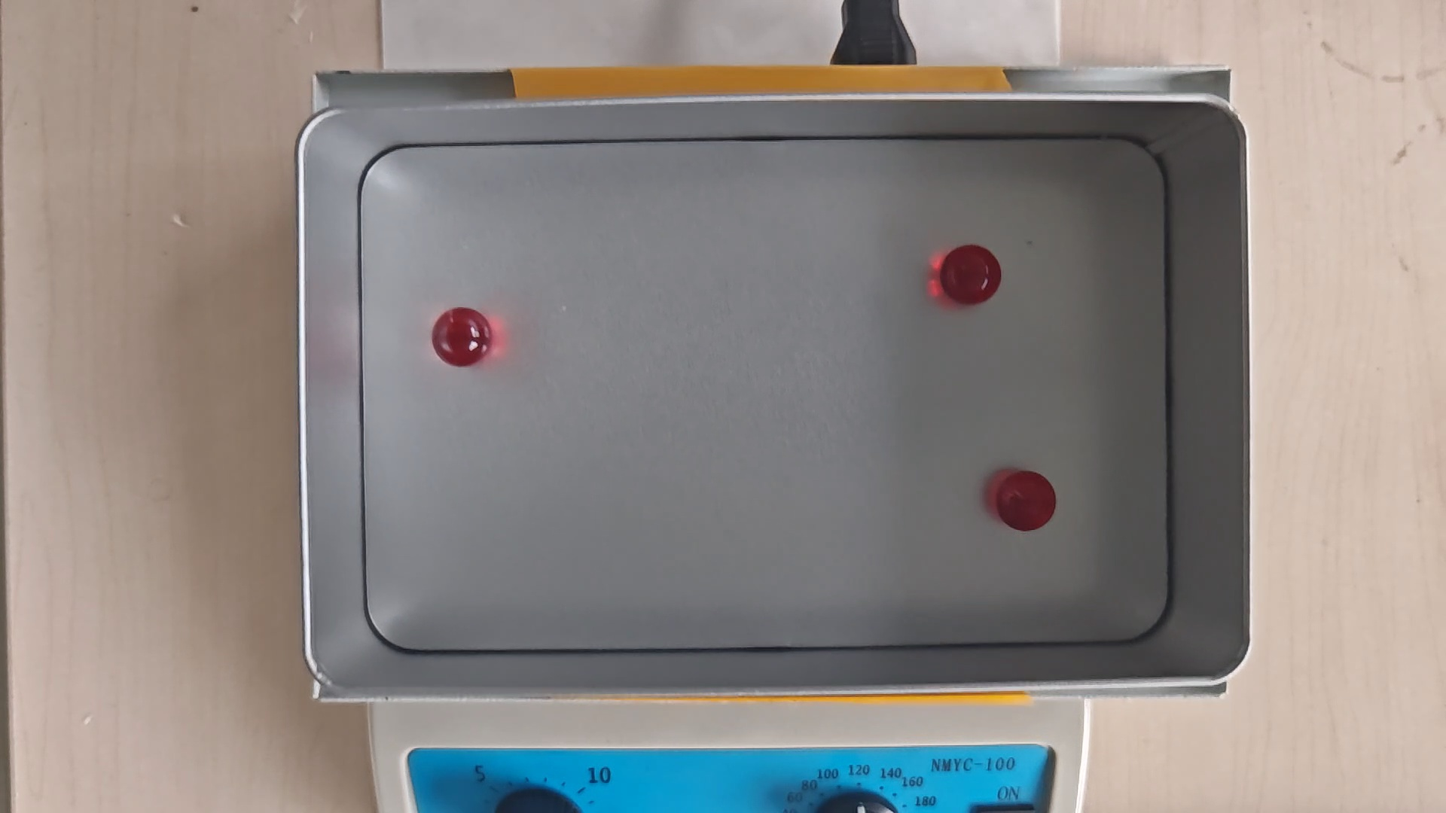ball: (999, 469, 1057, 535), (941, 245, 1003, 306), (433, 306, 490, 366)
container: (361, 138, 1168, 650)
